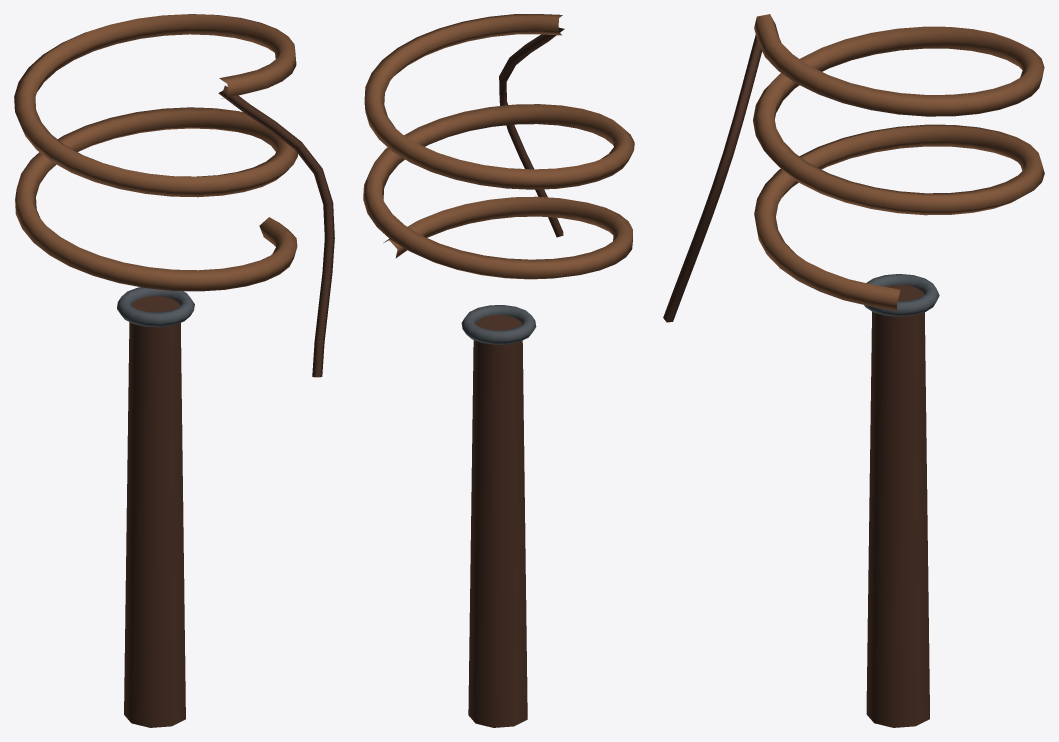
The model's file is whip.glb.
3 renders of one model, left to right at view 1: azimuth 30°, elevation 25°; view 2: azimuth 150°, elevation 25°; view 3: azimuth 270°, elevation 25°, orthographic. The views are drawn at different scales.
Visible parts, largest first — view 1: whip-coiled-thong, whip-handle, whip-tip, whip-handle-collar; view 2: whip-coiled-thong, whip-handle, whip-handle-collar, whip-tip; view 3: whip-coiled-thong, whip-handle, whip-tip, whip-handle-collar.
Boxes of the visible parts, x1=… form: whip-coiled-thong: x1=14, y1=14, x2=297, y2=291; whip-handle: x1=124, y1=296, x2=185, y2=727; whip-tip: x1=218, y1=85, x2=334, y2=377; whip-handle-collar: x1=117, y1=287, x2=194, y2=327; whip-coiled-thong: x1=363, y1=14, x2=634, y2=279; whip-handle: x1=468, y1=315, x2=527, y2=727; whip-handle-collar: x1=461, y1=305, x2=536, y2=344; whip-tip: x1=499, y1=27, x2=564, y2=237; whip-coiled-thong: x1=753, y1=14, x2=1044, y2=310; whip-handle: x1=866, y1=284, x2=929, y2=727; whip-tip: x1=663, y1=34, x2=762, y2=322; whip-handle-collar: x1=864, y1=274, x2=939, y2=316.
Bounding box in the file's own units: 0.118 × 0.3121 × 0.1541.
